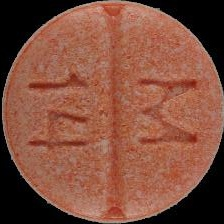0378-0014: (0, 0, 224, 224)
